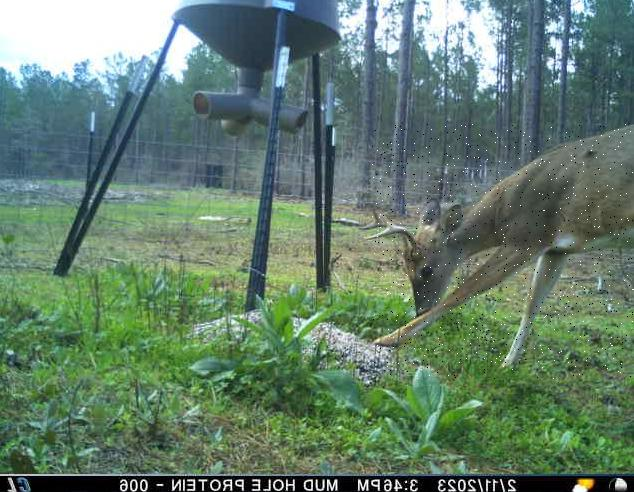Deer: (372, 124, 634, 379)
